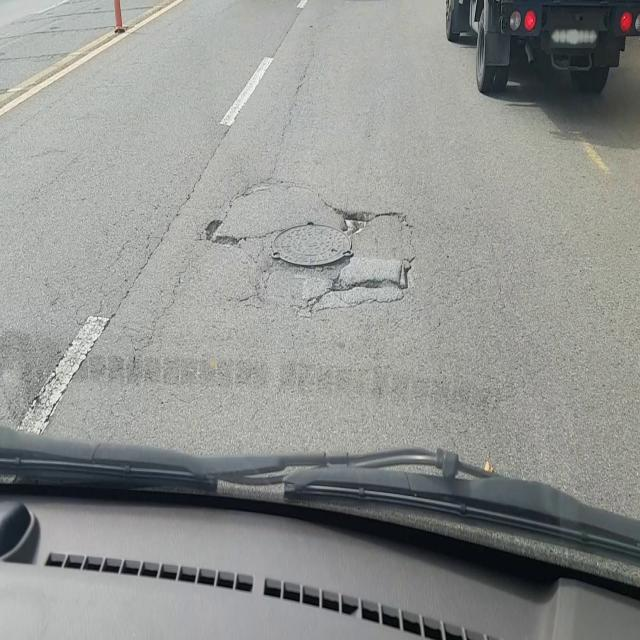Pothole: (270, 208, 374, 272)
